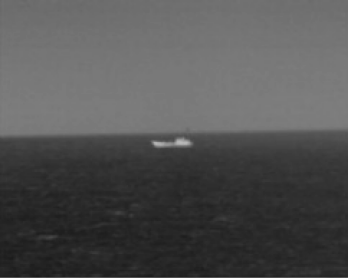Target: (153, 138, 192, 147)
